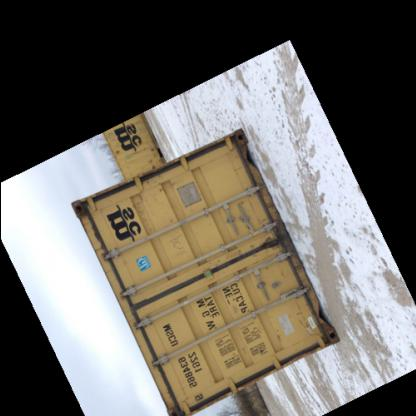Damage: (70, 202, 104, 254), (284, 238, 308, 286), (254, 188, 282, 229), (253, 227, 280, 262)
